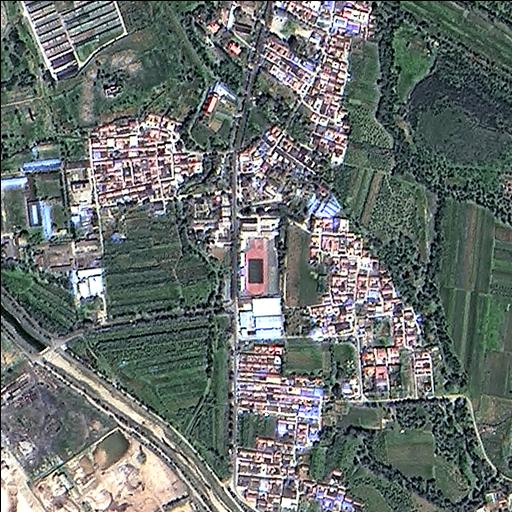school: (231, 213, 282, 295)
